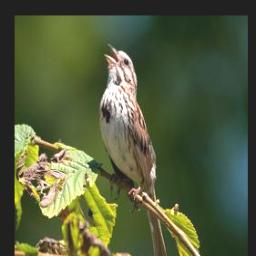Sparrow: (98, 42, 168, 256)
